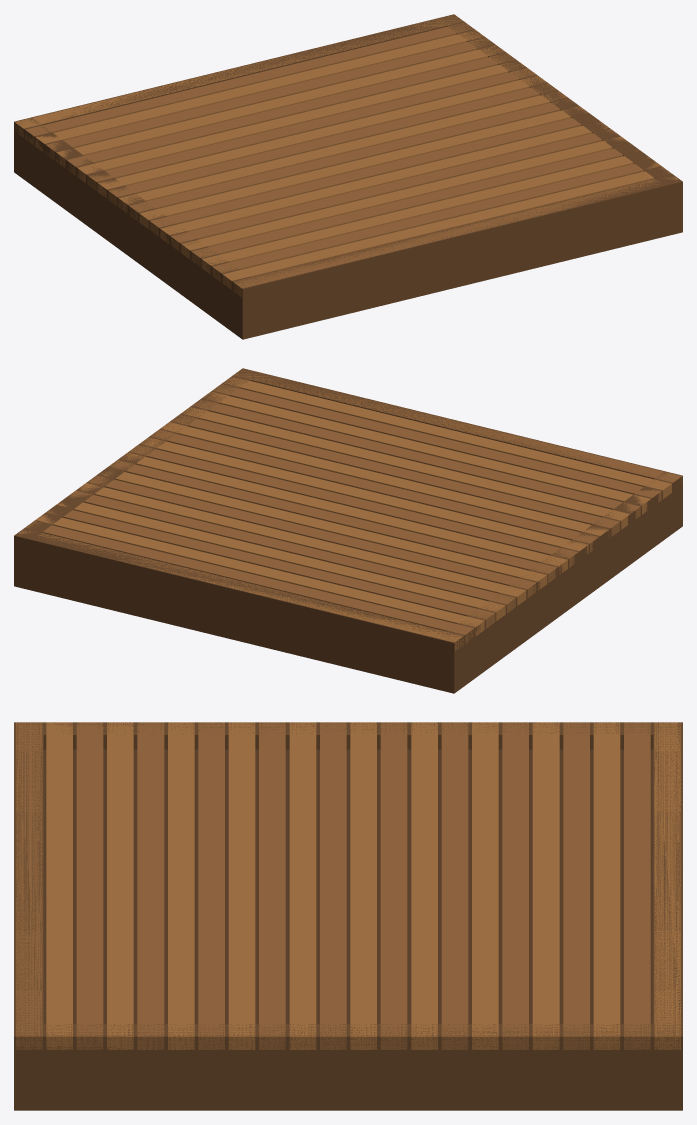
Rendered from timber-deck.glb.
3 views of the same model, one above another, from view 1: azimuth 30°, elevation 25°; view 2: azimuth 150°, elevation 25°; view 3: azimuth 270°, elevation 25° (orthographic). The views are drawn at different scales.
Visible parts, largest first — view 1: timber-deck; view 2: timber-deck; view 3: timber-deck.
Part boxes in pixels (bbox=[...]): timber-deck: bbox=[14, 14, 682, 339]; timber-deck: bbox=[14, 368, 682, 693]; timber-deck: bbox=[14, 722, 682, 1110].
Size of the model in its own units: 10 by 1.1 by 9.
